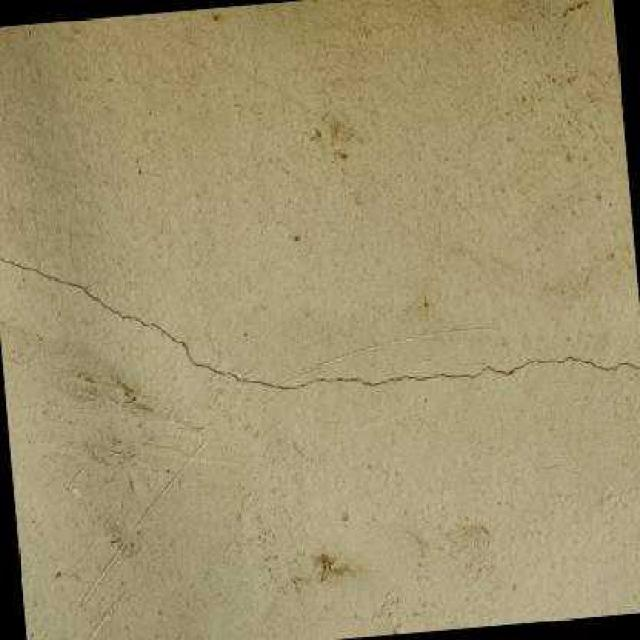D00: (0, 255, 640, 394)
